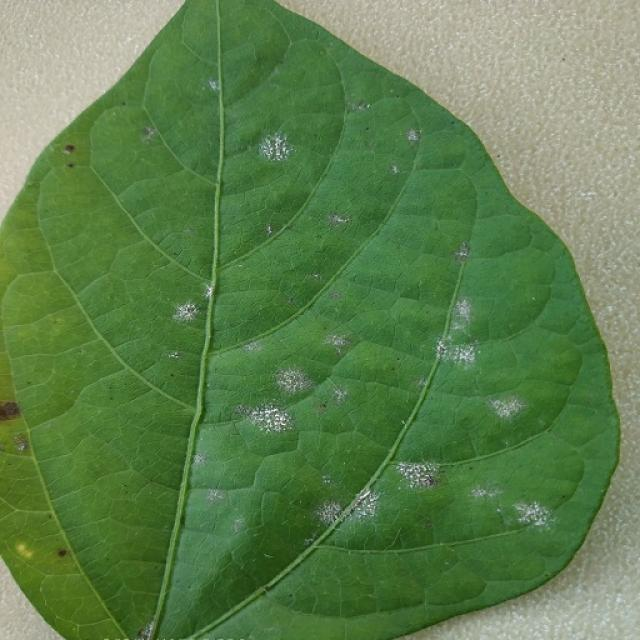Blackgram: (0, 0, 619, 639)
Powdery_Mildew: (229, 293, 511, 532), (170, 270, 336, 353), (233, 348, 366, 447), (317, 468, 454, 531), (252, 400, 293, 447), (397, 461, 439, 490), (445, 299, 474, 338), (251, 405, 291, 433), (275, 366, 311, 394), (349, 488, 381, 519), (260, 132, 292, 161), (515, 501, 550, 527), (317, 500, 344, 525), (491, 397, 521, 419), (173, 301, 200, 322), (453, 344, 476, 365), (138, 616, 157, 638), (452, 241, 471, 260), (470, 485, 495, 499), (347, 99, 369, 113), (205, 488, 225, 503), (331, 386, 348, 403), (15, 542, 33, 558), (272, 412, 287, 428), (405, 128, 421, 143), (418, 474, 435, 488), (244, 340, 262, 353), (330, 213, 349, 225), (357, 488, 372, 503), (234, 404, 250, 417), (333, 335, 349, 347), (233, 518, 246, 532), (203, 285, 215, 300), (435, 342, 447, 356), (143, 126, 156, 138), (192, 453, 206, 464), (61, 144, 75, 155), (208, 79, 219, 91), (16, 441, 27, 452), (168, 351, 181, 359), (185, 304, 195, 314), (322, 475, 332, 485), (310, 272, 322, 280), (329, 291, 341, 299), (304, 537, 314, 546), (391, 165, 399, 174), (266, 225, 273, 235), (232, 249, 238, 256), (496, 507, 502, 513), (205, 381, 210, 388), (366, 103, 371, 109), (401, 419, 406, 425), (236, 263, 242, 268), (531, 296, 536, 301)
